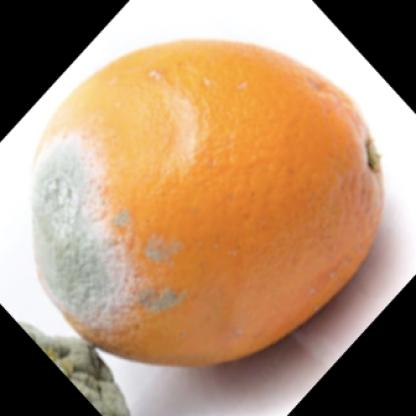rotten: (31, 42, 385, 374)
